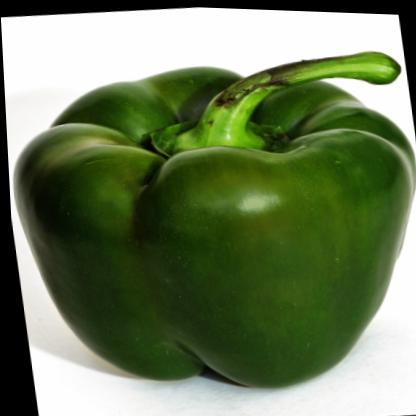bell_pepper: (1, 30, 416, 416)
